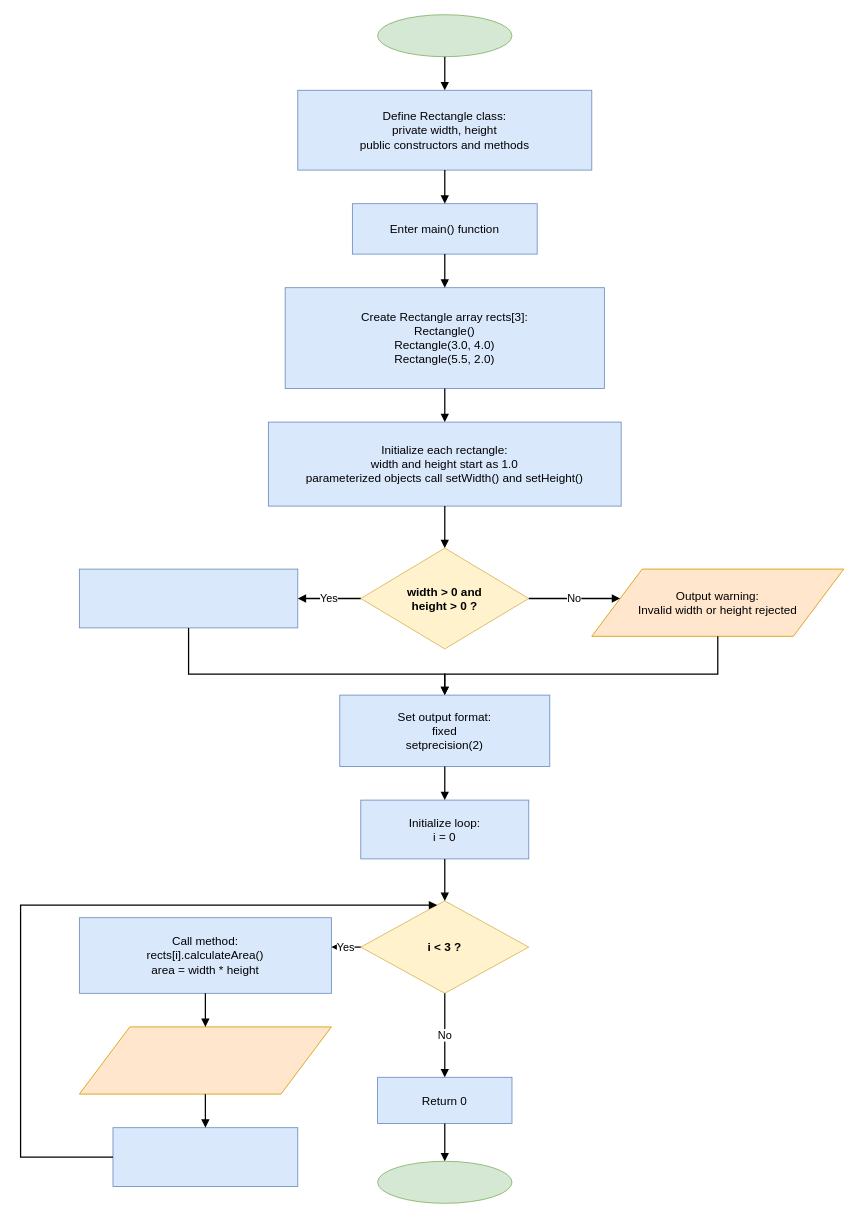
Some shapes in this 859 by 1218 pixel diagram are drawn without their labels. Here are the shapes that lost their labels. From the top down, the centre of each, then its label:
[444,35]: Start
[188,598]: Assign valid width and height values
[205,1060]: Output: Rectangle i + 1 area: area
[205,1156]: Update loop: i++
[444,1181]: End
